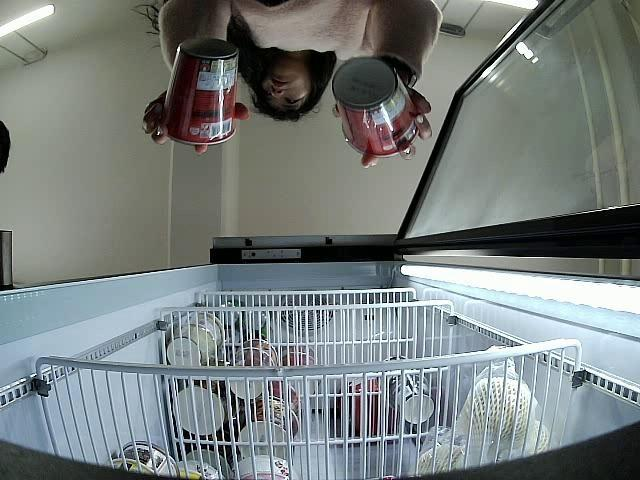02_shinRamen_S: (333, 55, 418, 156), (162, 38, 240, 143)
